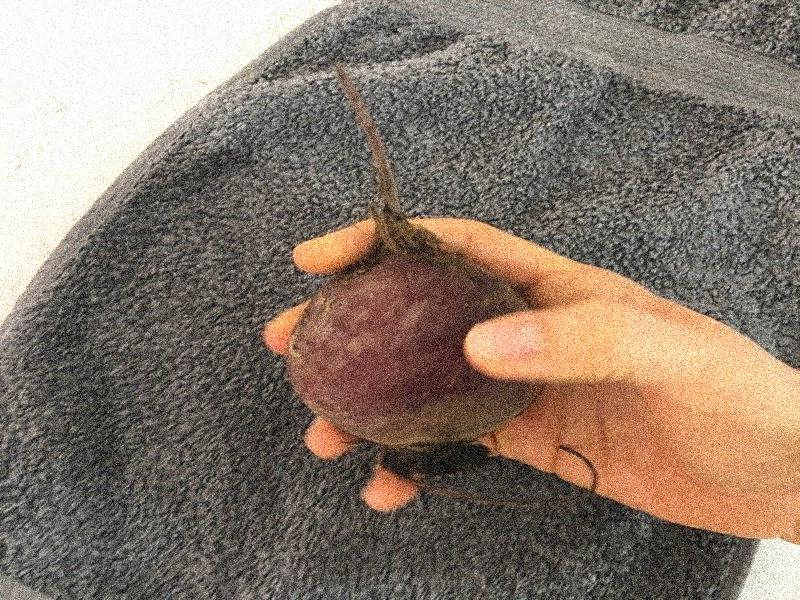Beet: (285, 59, 545, 473)
